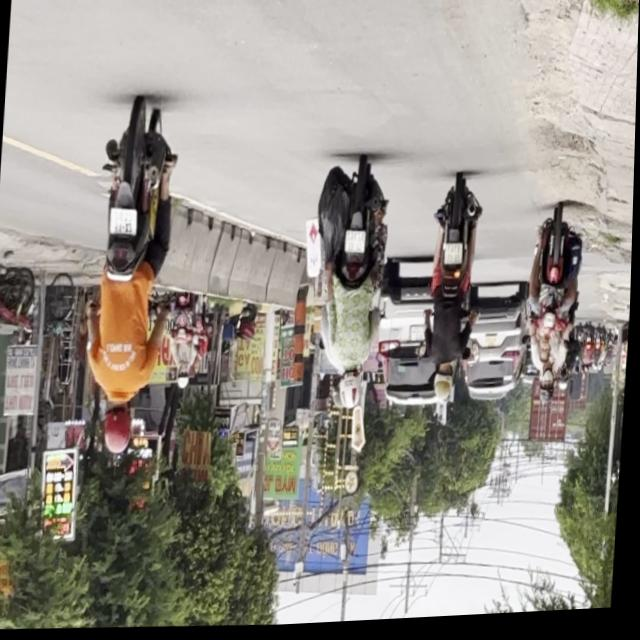helmet: (102, 400, 137, 458), (338, 372, 364, 414), (434, 369, 456, 408), (540, 373, 558, 412)
licenseplate: (80, 96, 185, 463), (302, 157, 396, 420), (421, 179, 488, 409), (519, 206, 589, 416)
motorcyclist: (539, 341, 555, 371)
nohelmet: (110, 209, 138, 239), (345, 233, 367, 259), (445, 247, 464, 271)
